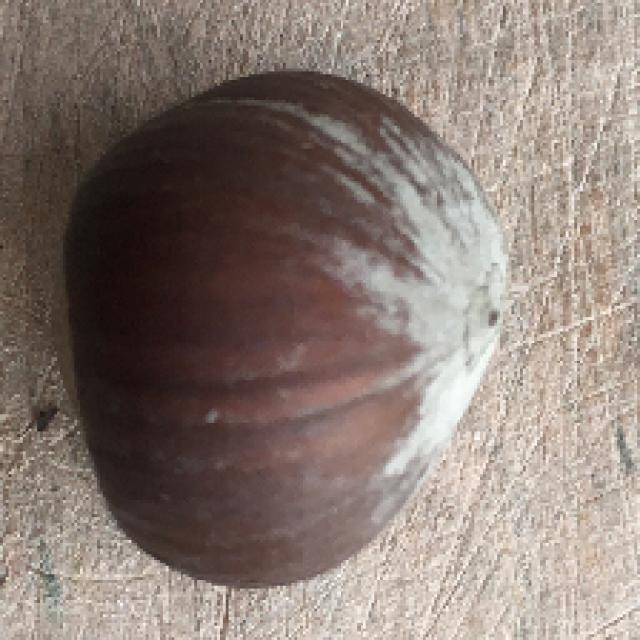DamagedHazelnut: (67, 73, 515, 590)
